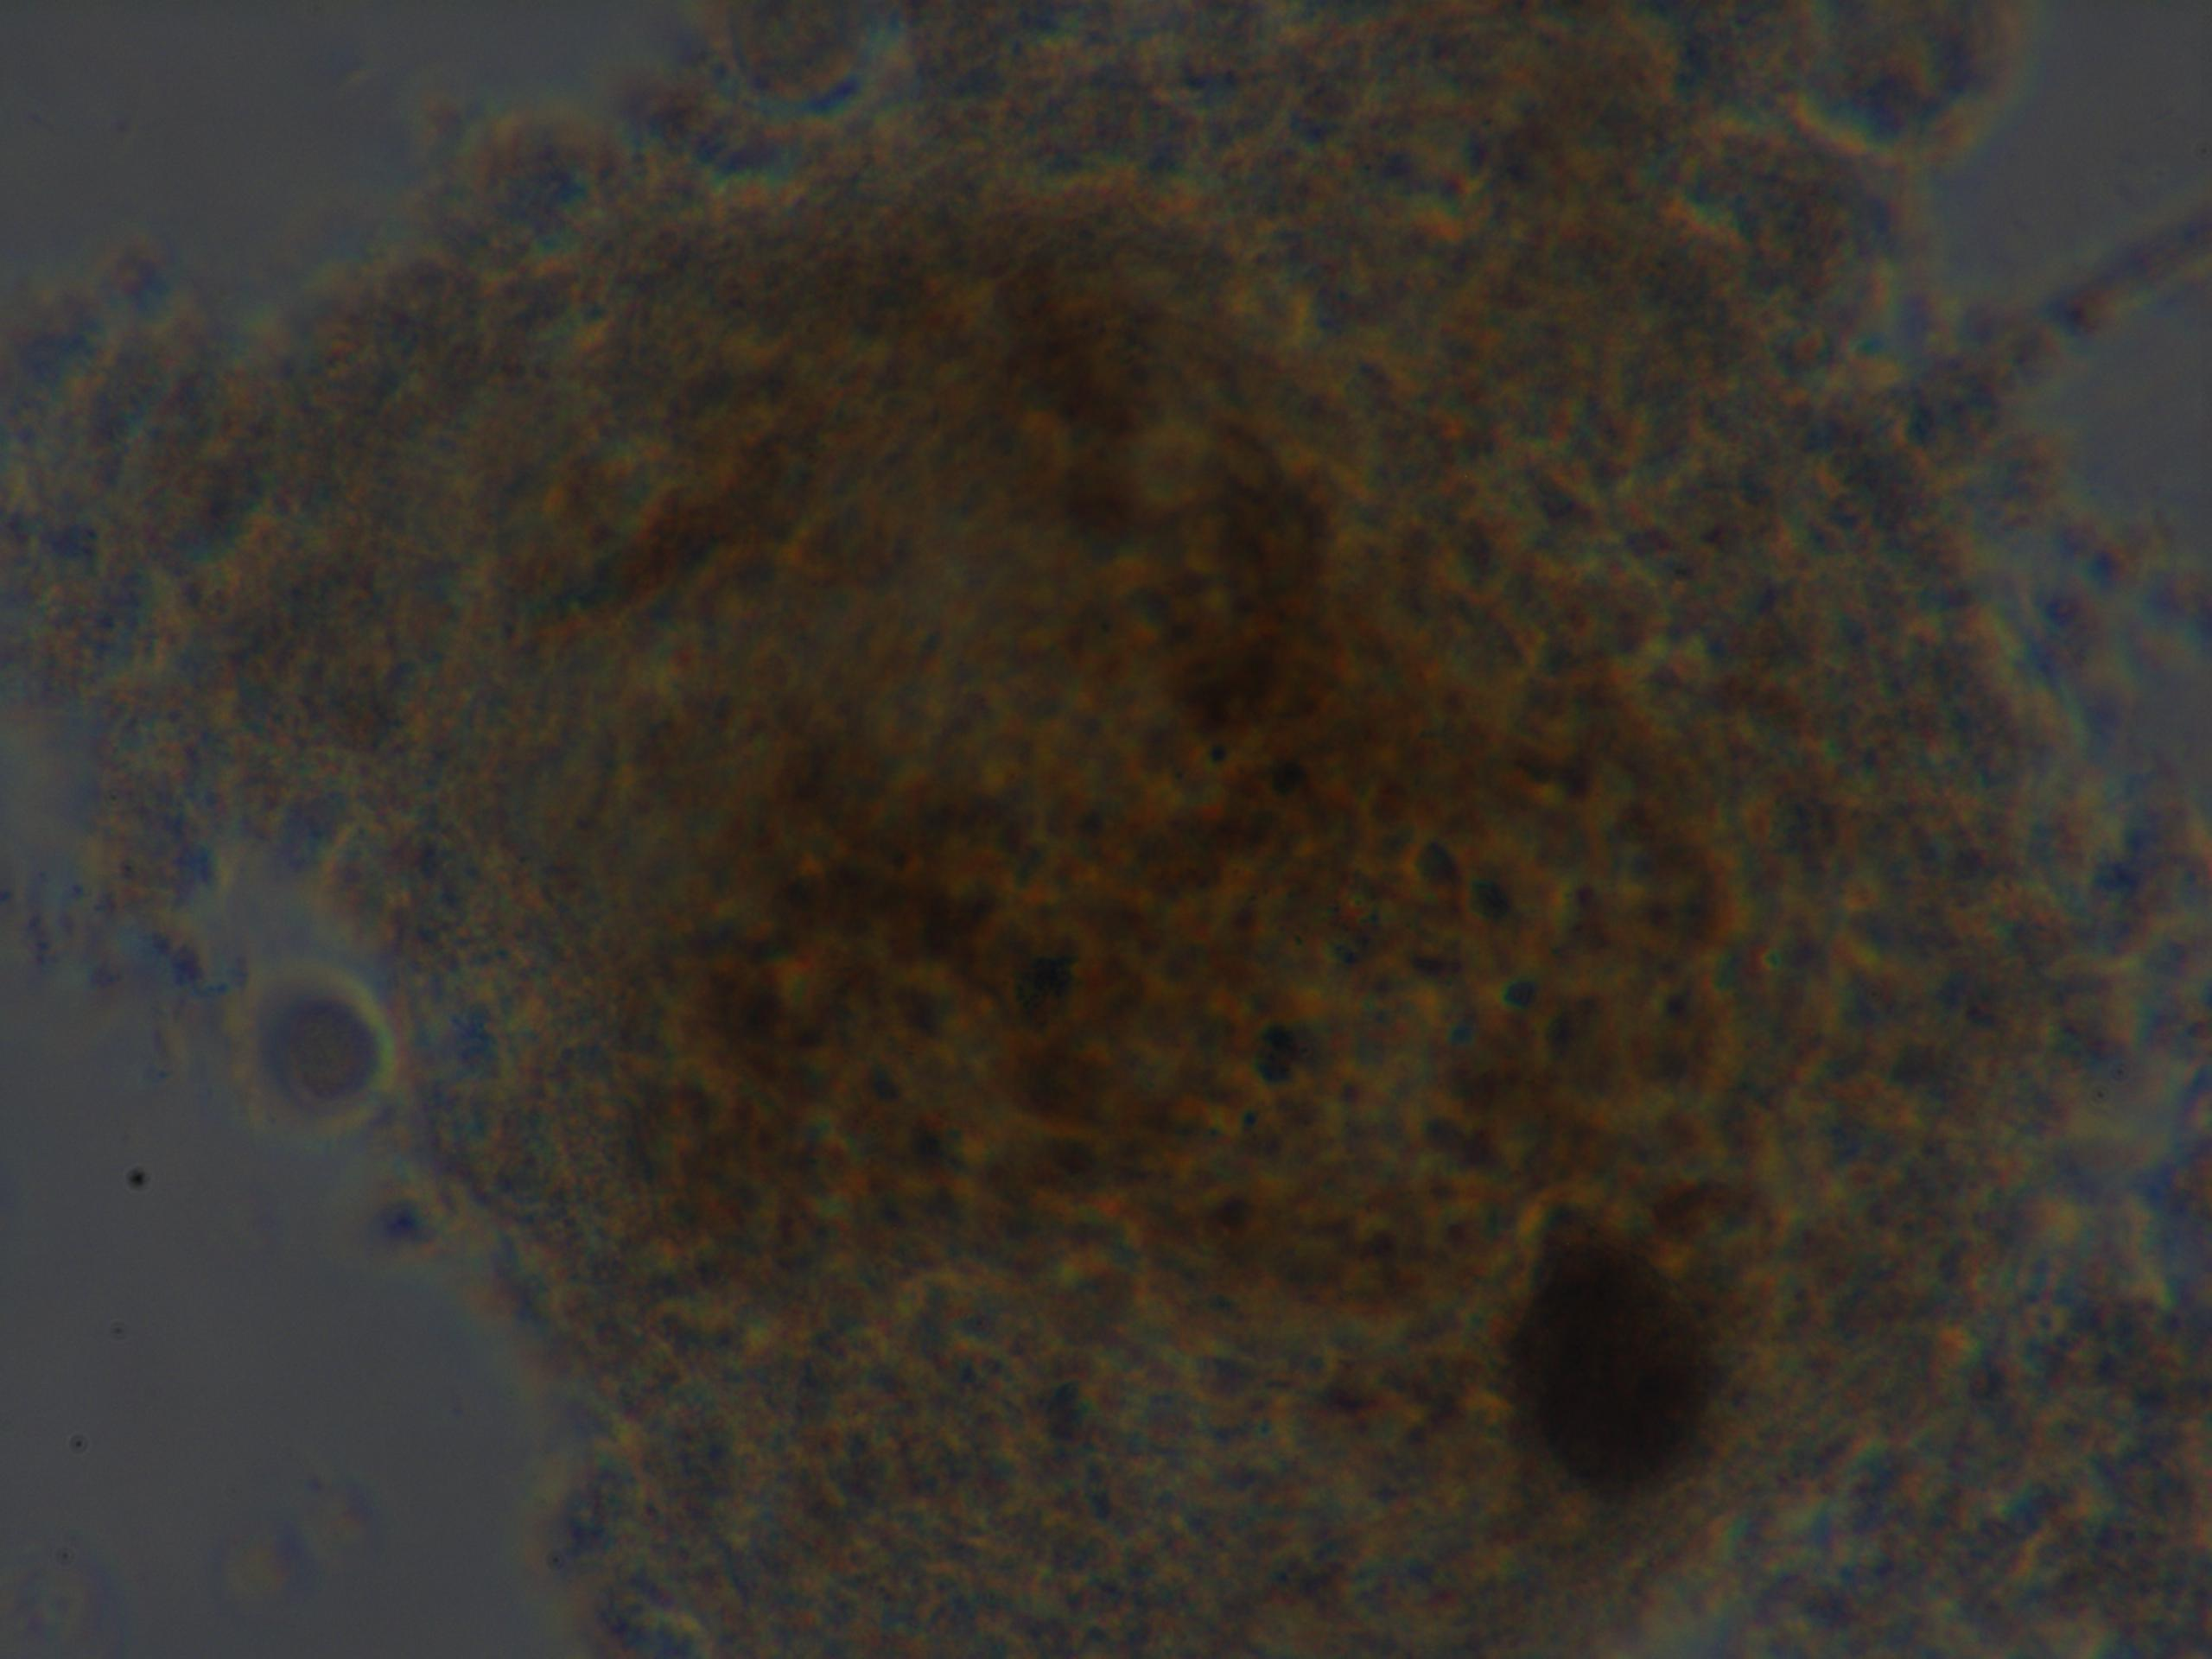spherical_floc: (157, 7, 2212, 1659)
